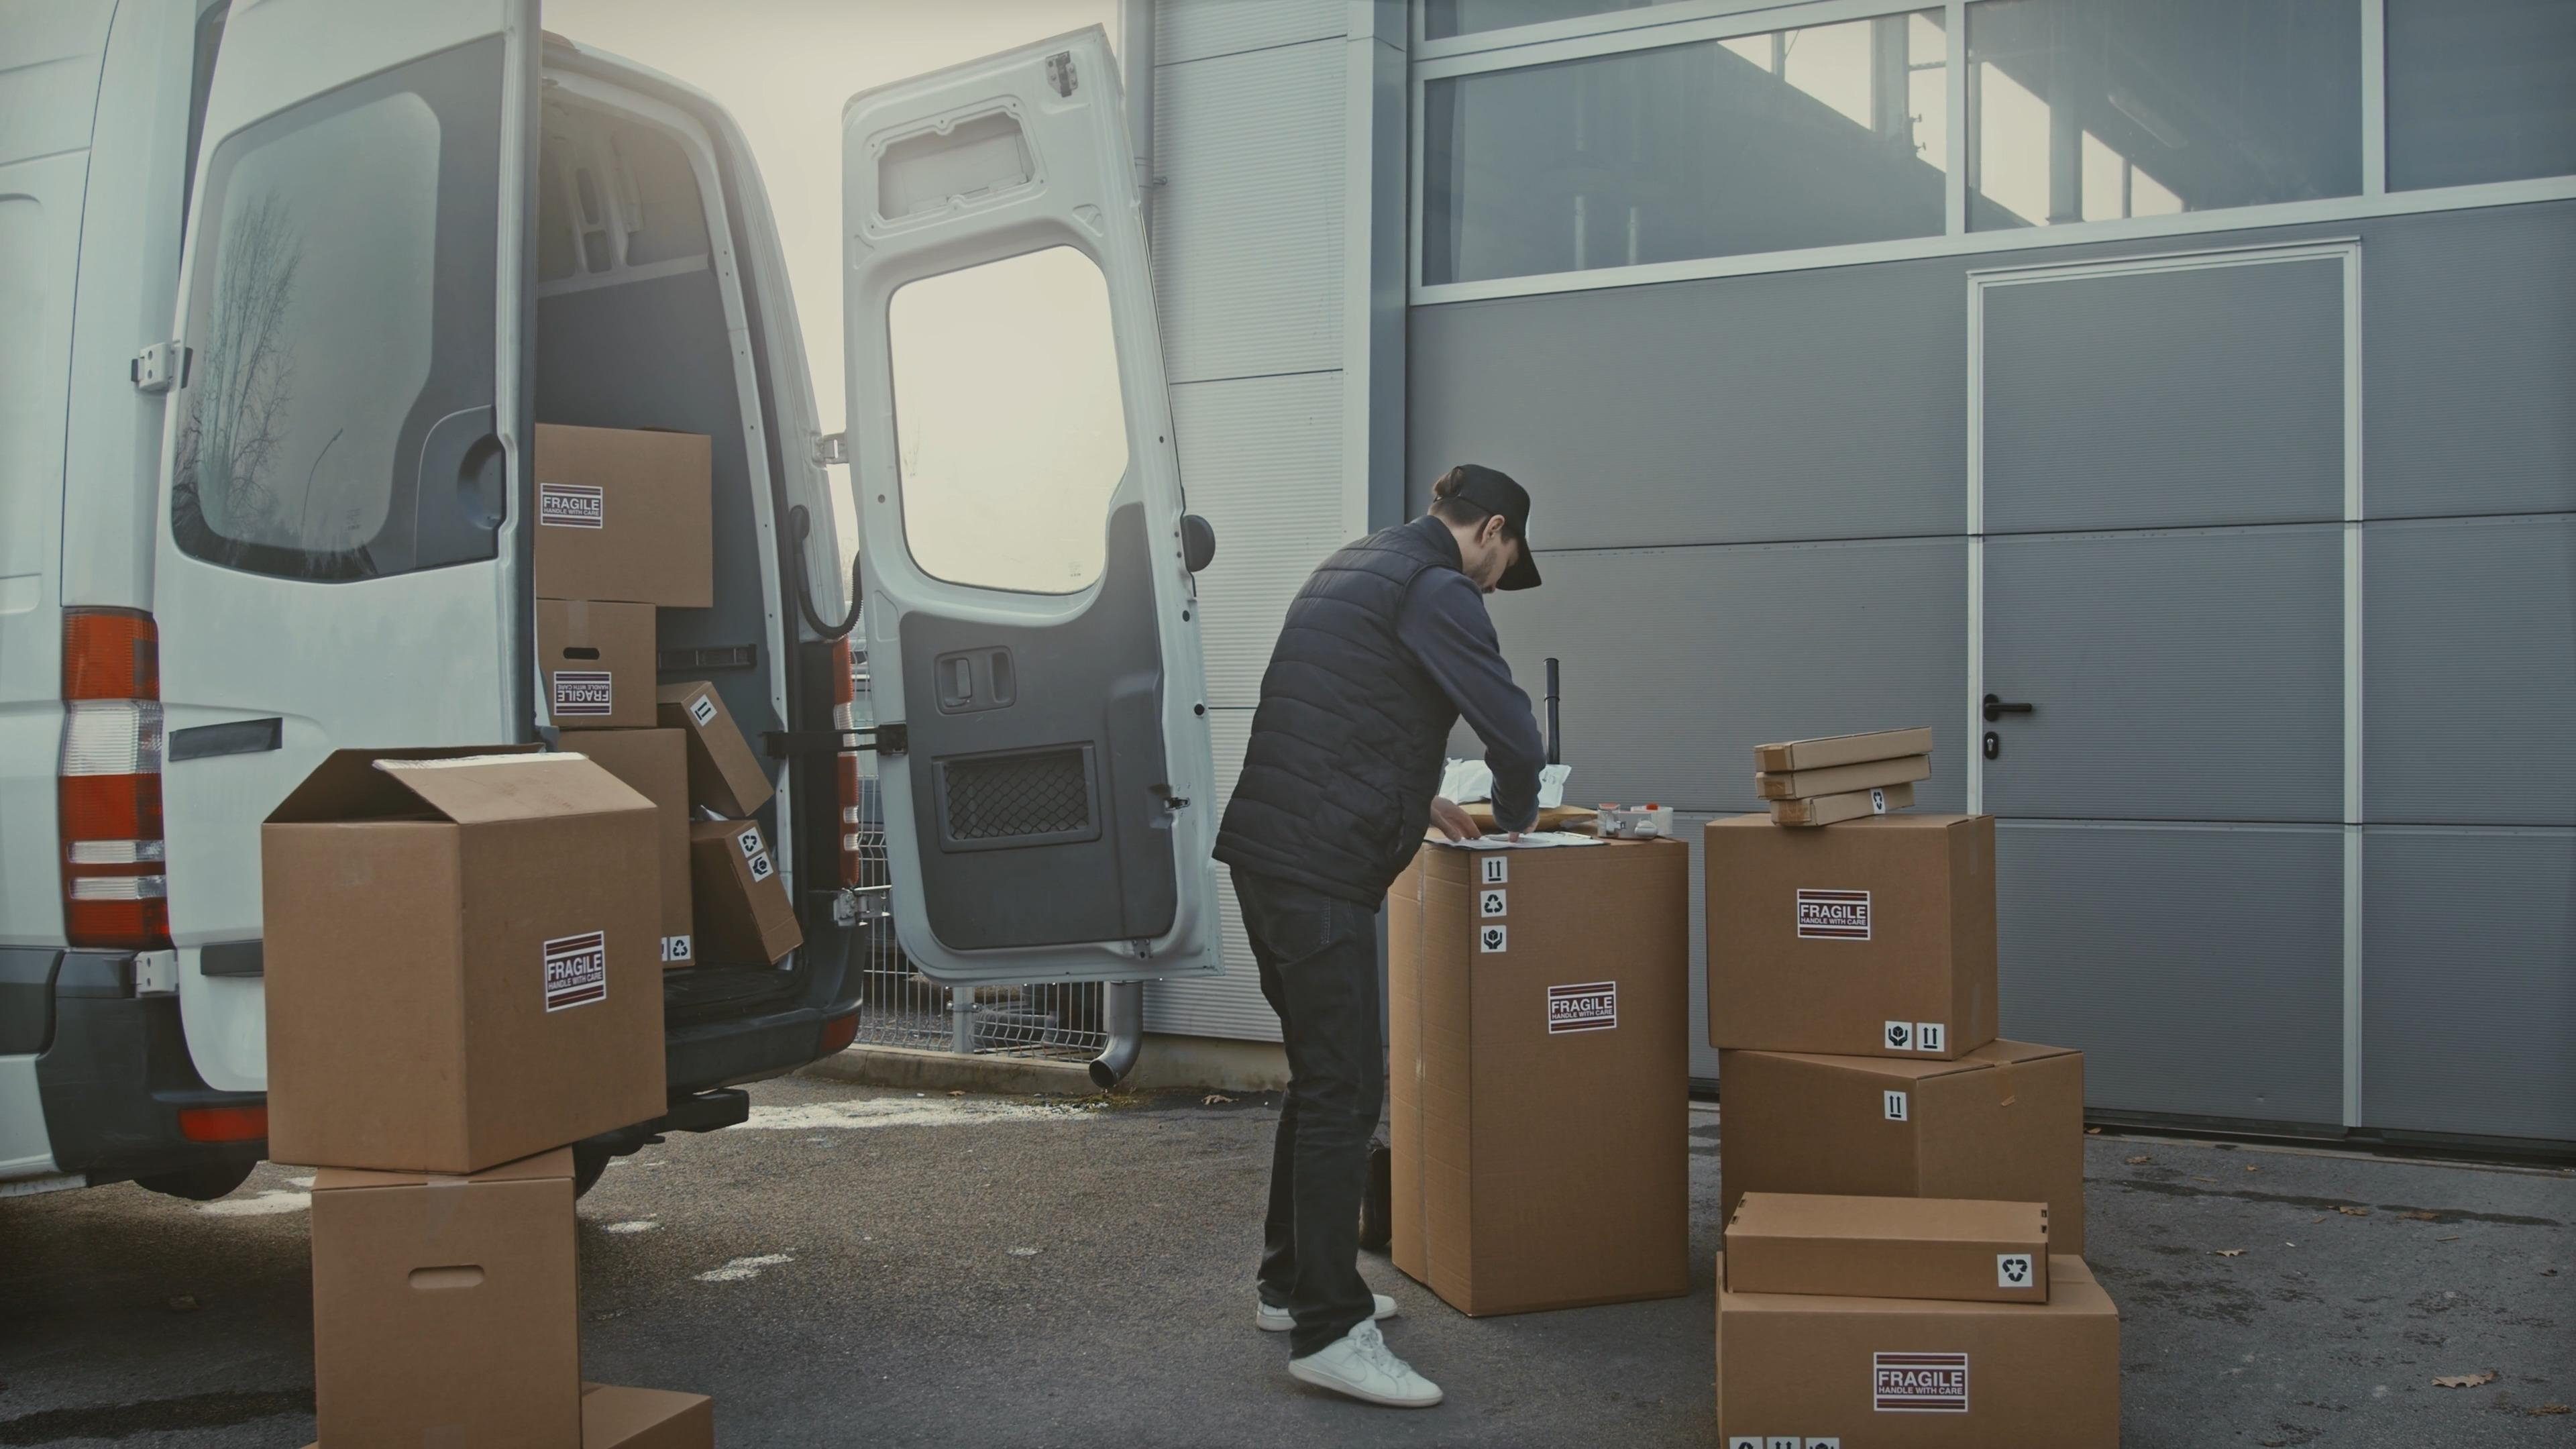-: (265, 741, 672, 1168), (1396, 816, 1697, 1316), (299, 1155, 579, 1449), (1721, 1249, 2118, 1447), (1714, 819, 2008, 1062), (1721, 1044, 2093, 1203), (531, 414, 732, 603), (1736, 1178, 2056, 1295), (534, 610, 662, 727), (713, 658, 736, 669)
